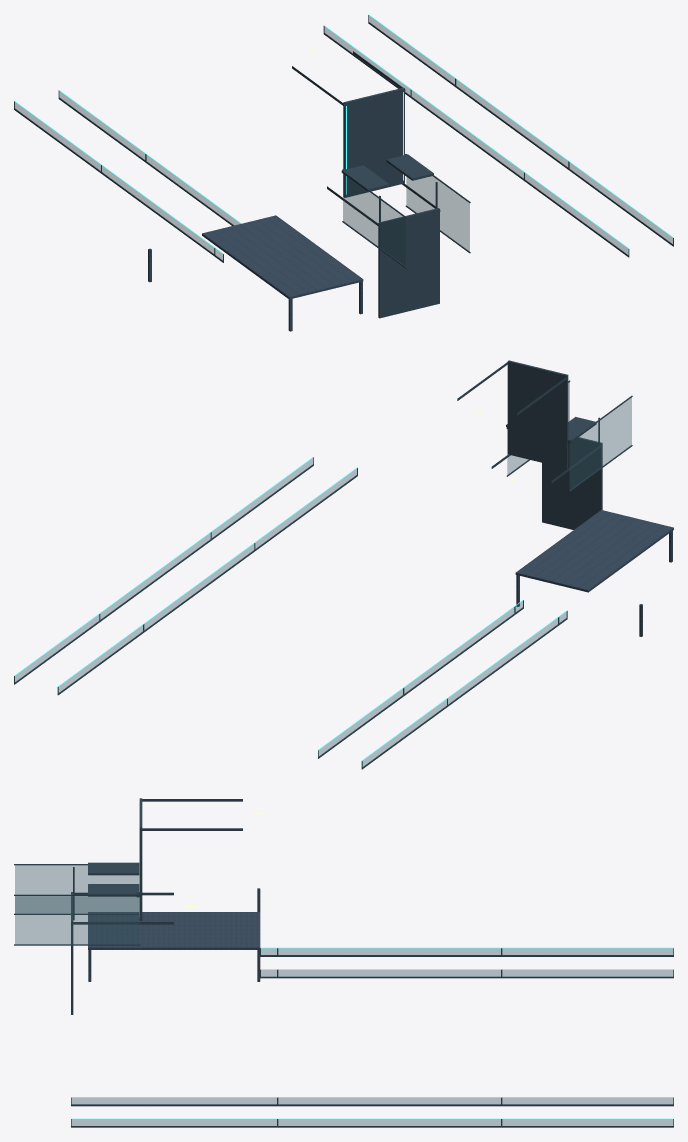
Rendered from maintenance-access-replacement-0.glb.
The picture shows the model from 3 angles, top to bottom: view 1: azimuth 30°, elevation 25°; view 2: azimuth 150°, elevation 25°; view 3: azimuth 270°, elevation 25°; orthographic projection.
Parts seen in each view (by area): view 1: maintenance-access-replacement-0; view 2: maintenance-access-replacement-0; view 3: maintenance-access-replacement-0.
Boxes of the visible parts, bbox=[...] form: maintenance-access-replacement-0: bbox=[14, 14, 673, 331]; maintenance-access-replacement-0: bbox=[14, 360, 673, 769]; maintenance-access-replacement-0: bbox=[14, 798, 673, 1127].
Size of the model in its own units: 56.96 by 24 by 76.6.
5 materials, 1 textured.
